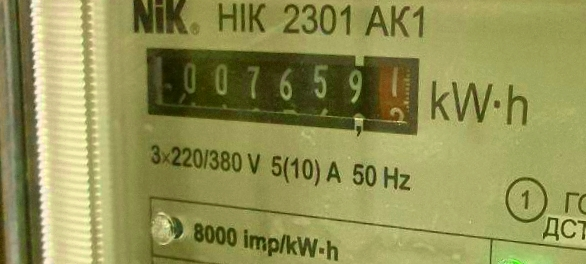0: (209, 58, 232, 99), (178, 58, 201, 97)
1: (382, 62, 404, 100)
5: (307, 60, 332, 102)
6: (273, 62, 298, 104)
7: (240, 60, 265, 101)
9: (343, 65, 367, 106)
screen: (131, 31, 429, 145)
